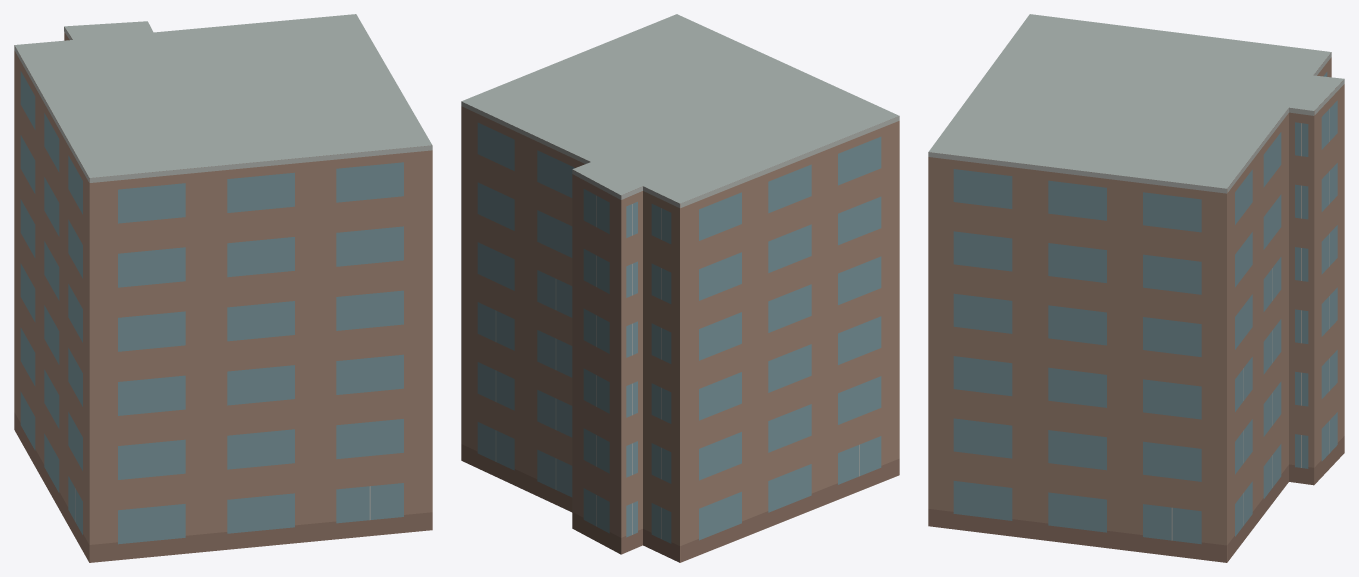
File: survey-upis-32929352.glb
The picture shows the model from 3 angles, left to right: view 1: azimuth 30°, elevation 25°; view 2: azimuth 150°, elevation 25°; view 3: azimuth 270°, elevation 25°; orthographic projection. The views are drawn at different scales.
Visible parts, largest first — view 1: survey-upis-32929352.tmp; view 2: survey-upis-32929352.tmp; view 3: survey-upis-32929352.tmp.
Boxes of the visible parts, x1,y1,x2,y2 form: survey-upis-32929352.tmp: (14, 14, 432, 562); survey-upis-32929352.tmp: (461, 14, 899, 562); survey-upis-32929352.tmp: (928, 14, 1344, 562).
Bounding box in the file's own units: 18.64 × 18.6 × 18.76.
